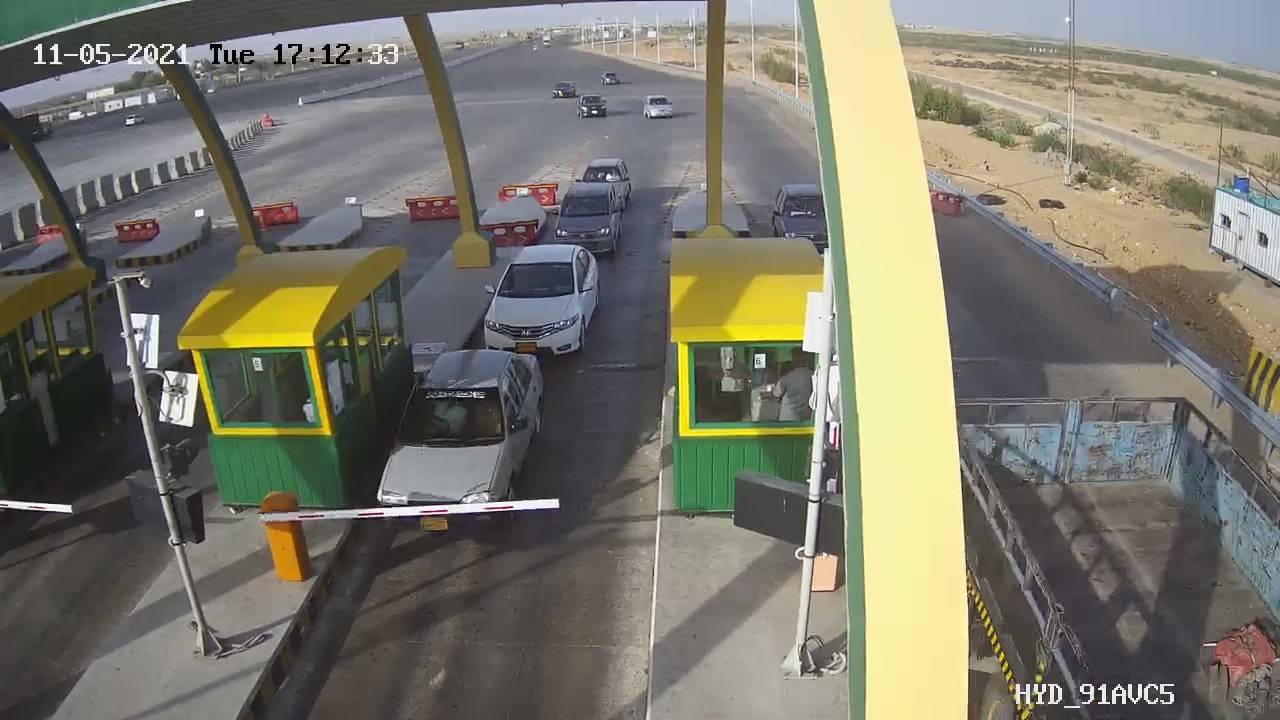F1: (369, 338, 565, 543), (472, 227, 620, 379)
